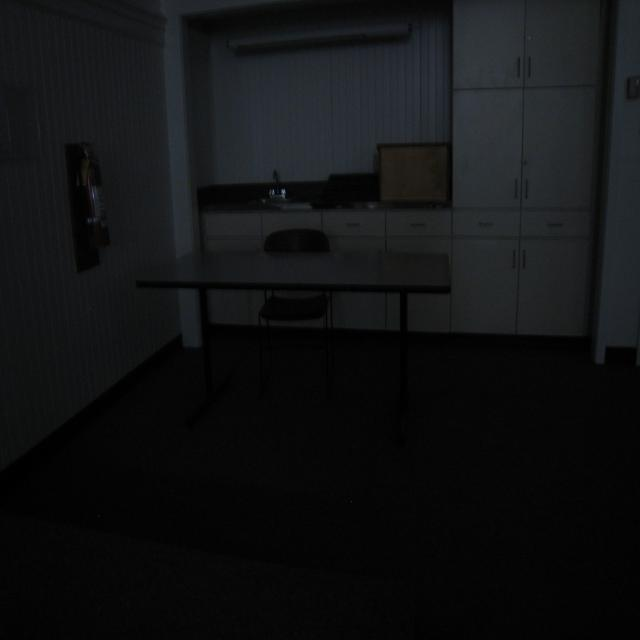Table: (147, 236, 461, 431)
